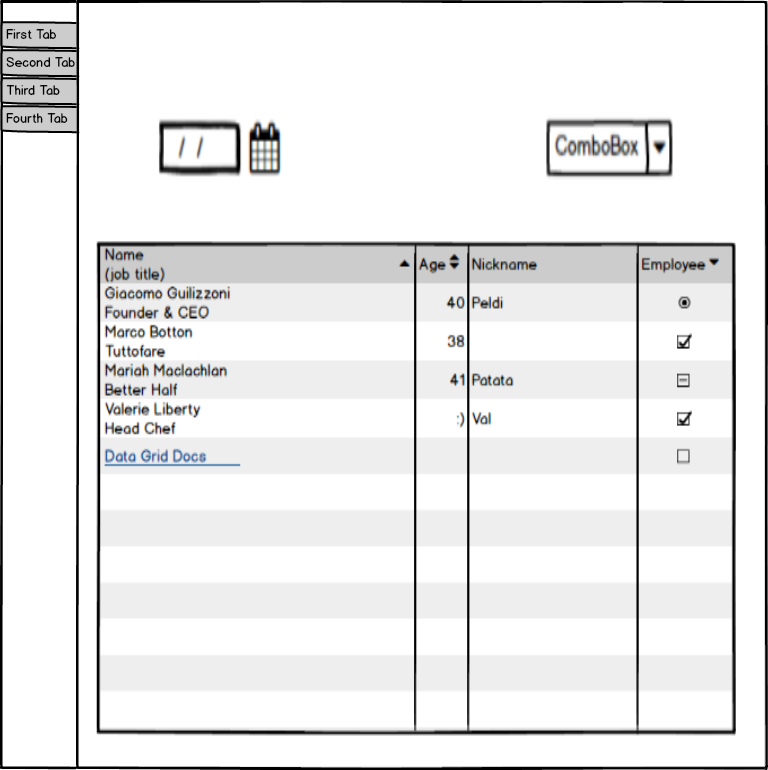date_picker: (150, 107, 286, 186)
select_box: (542, 113, 680, 182)
sidebar: (3, 14, 84, 142)
table: (90, 235, 745, 740)
